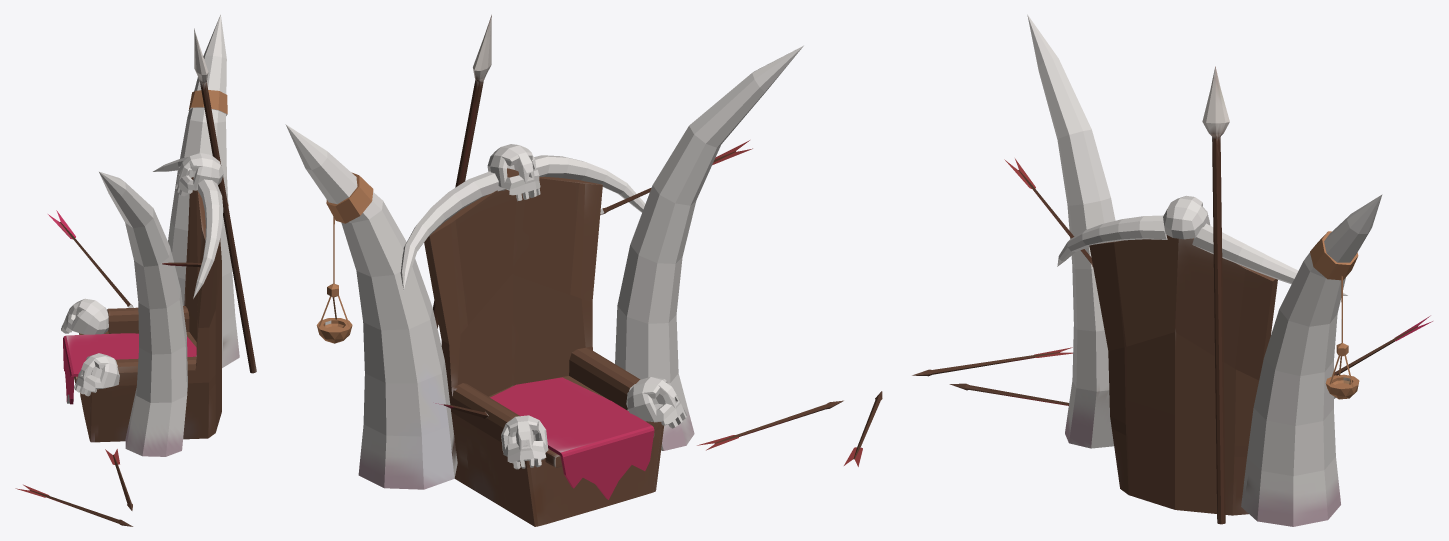
The model's file is throne.fbx.
The picture shows the model from 3 angles, left to right: view 1: azimuth 30°, elevation 25°; view 2: azimuth 150°, elevation 25°; view 3: azimuth 270°, elevation 25°; orthographic projection. The views are drawn at different scales.
Visible parts, largest first — view 1: throne; view 2: throne; view 3: throne.
Boxes of the visible parts, x1,y1,x2,y2 form: throne: [15, 14, 256, 526]; throne: [285, 14, 882, 526]; throne: [912, 14, 1432, 526].
Bounding box in the file's own units: 339 × 359 × 388.
